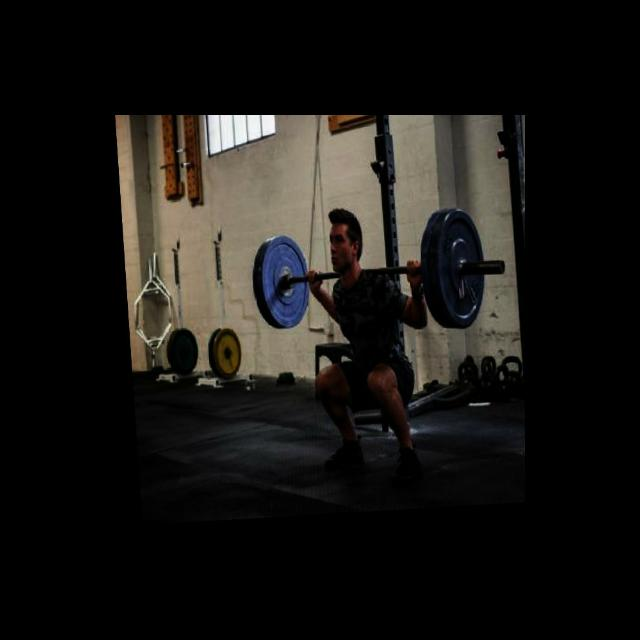barbell: (428, 209, 507, 334)
